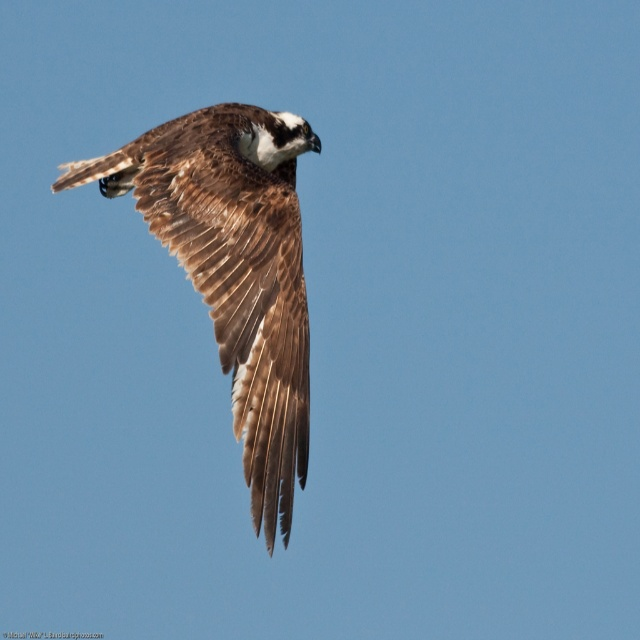Eagle: (46, 103, 323, 559)
